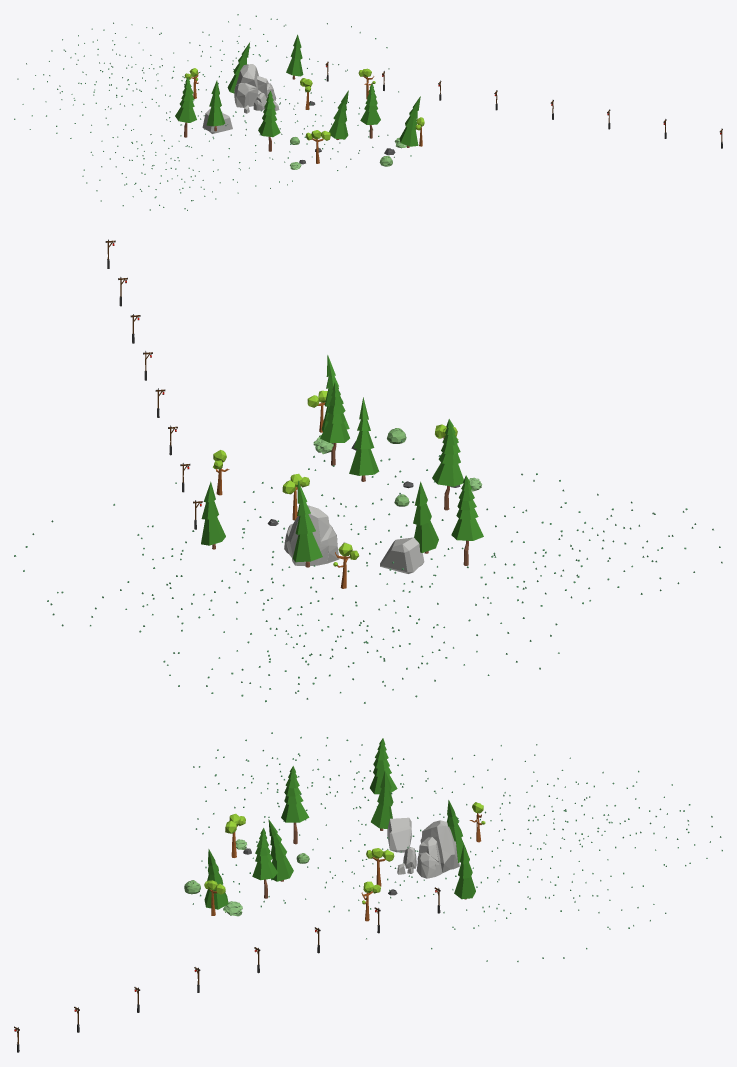
File: chunk_0_2_lod1.glb
3 renders of one model, top to bottom at view 1: azimuth 30°, elevation 25°; view 2: azimuth 150°, elevation 25°; view 3: azimuth 270°, elevation 25°, orthographic. The views are drawn at different scales.
Parts seen in each view (by area): view 1: Batched_chunk_0_2_lod1; view 2: Batched_chunk_0_2_lod1; view 3: Batched_chunk_0_2_lod1.
Part boxes in pixels (x1,y1,x2,y2): Batched_chunk_0_2_lod1: (14, 14, 722, 210); Batched_chunk_0_2_lod1: (14, 239, 722, 703); Batched_chunk_0_2_lod1: (14, 732, 722, 1052).
Size of the model in its own units: 110 by 13.75 by 103.
Materials: 12 (2 with a texture image).
